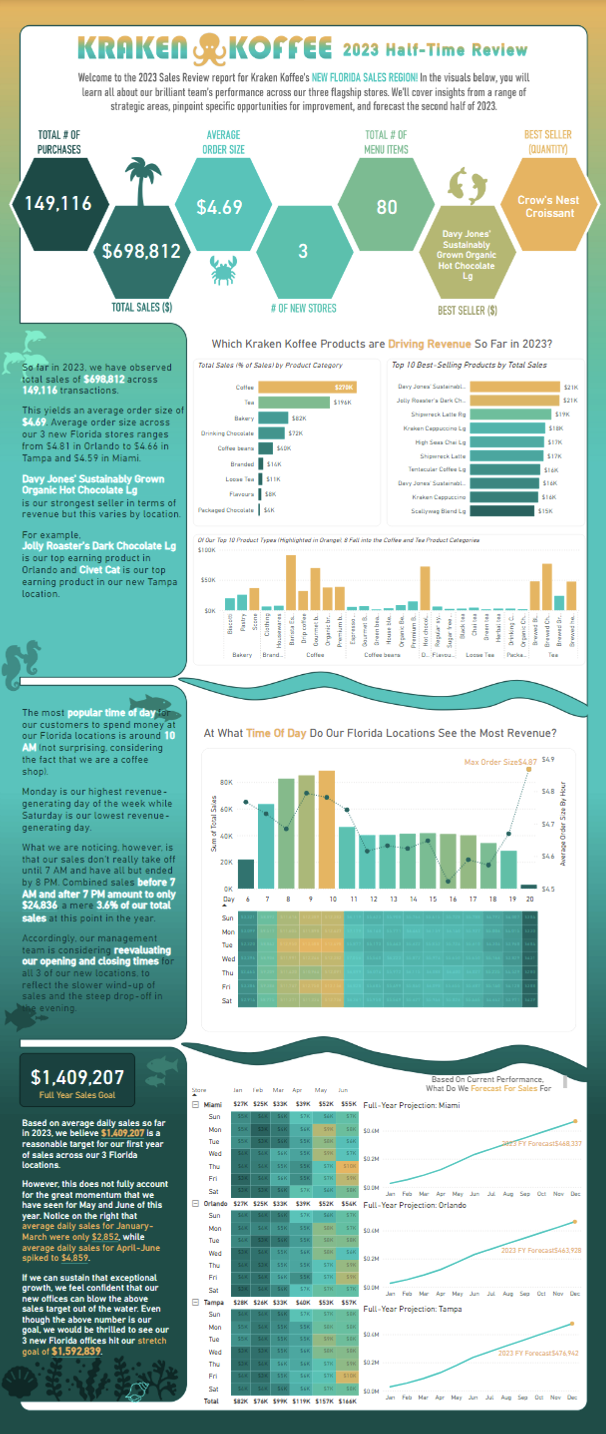

The dashboard page shown, as its layout file describes it:
{"tool":"powerbi","page":{"name":"Kraken Coffee Infographic","canvas":[1280,3020],"ordinal":0},"visuals":[{"type":"card","fields":{"Values":["_01_Core_Measures.Total Transactions"]},"box":[21,330,202,186],"z":0},{"type":"card","fields":{"Values":["_01_Core_Measures.Total Sales"]},"box":[142,434,311,186],"z":1000},{"type":"card","fields":{"Values":["_01_Core_Measures.Average Order Size"]},"box":[363,341,203,186],"z":2000},{"type":"card","fields":{"Values":["_01_Core_Measures.Total Stores"]},"box":[539,434,202,186],"z":3000},{"type":"card","fields":{"Values":["_01_Core_Measures.Total Products"]},"box":[714,341,203,186],"z":4000},{"type":"card","fields":{"Values":["_01_Core_Measures.Top Earner"]},"box":[903,468,165,140],"z":5000},{"type":"card","fields":{"Values":["_01_Core_Measures.Most Popular Seller"]},"box":[1048,318,218,232],"z":6000},{"type":"clusteredBarChart","title":"Total Sales (% of Sales) by Product Category","fields":{"Y":["_01_Core_Measures.Total Sales"],"Category":["Product_Dim.product_category"]},"box":[406,755,395,353],"z":7000},{"type":"clusteredBarChart","title":"Top 10 Best-Selling Products by Total Sales","fields":{"Category":["Product_Dim.product_detail"],"Y":["_01_Core_Measures.Total Sales"]},"box":[814,755,418,353],"z":8000},{"type":"clusteredColumnChart","title":"Of Our Top 10 Product Types (Highlighted in Orange), 8 Fall into the Coffee and Tea Product Categories","fields":{"Category":["Product_Dim.product_category","Product_Dim.product_type"],"Y":["_01_Core_Measures.Total Sales"]},"box":[406,1125,826,276],"z":9000},{"type":"textbox","box":[440,704,751,39],"z":10000},{"type":"textbox","box":[425,1525,790,41],"z":11000},{"type":"shape","box":[425,1575,790,598],"z":12000},{"type":"pivotTable","fields":{"Values":["_01_Core_Measures.Total Sales"],"Rows":["Date.Day Name Short"],"Columns":["Kraken_Koffee_Fact.Hour"]},"box":[456,1874,726,255],"z":13000},{"type":"lineStackedColumnComboChart","fields":{"Category":["Kraken_Koffee_Fact.Hour"],"Y":["Sum(Kraken_Koffee_Fact.Total Sales)"],"Y2":["_01_Core_Measures.Average Order Size","_02_Nested_Measures.Max AOS Marker"]},"box":[438,1584,761,303],"z":14000},{"type":"lineChart","title":"Full-Year Projection: Miami","fields":{"Y":["_04_Forecast.Forecast","_04_Forecast.Forecast Marker"],"Category":["Forecast Date Table.Month Name Short"]},"box":[762,2317,471,210],"z":15000},{"type":"lineChart","title":"Full-Year Projection: Orlando","fields":{"Y":["_04_Forecast.Forecast","_04_Forecast.Forecast Marker"],"Category":["Forecast Date Table.Month Name Short"]},"box":[762,2527,470,210],"z":16000},{"type":"lineChart","title":"Full-Year Projection: Tampa","fields":{"Y":["_04_Forecast.Forecast","_04_Forecast.Forecast Marker"],"Category":["Forecast Date Table.Month Name Short"]},"box":[762,2748,464,210],"z":17000},{"type":"pivotTable","fields":{"Rows":["Store_Dim.store_location","Date.Day Name Short"],"Values":["_01_Core_Measures.Total Sales"],"Columns":["Forecast Date Table.Month Name Short"]},"box":[394,2276,368,695],"z":18000},{"type":"textbox","box":[869,2261,330,49],"z":19000},{"type":"textbox","box":[42,755,352,544],"z":20000},{"type":"textbox","box":[42,1482,338,675],"z":20001},{"type":"card","fields":{"Values":["_04_Forecast.Forecast"]},"box":[42,2219,243,113],"z":20002},{"type":"textbox","box":[42,2347,321,539],"z":20003}]}

Visuals, with their boxes in screenshot pixels (x1, y1, x2, y2), scaled from the page's 1280x3020 canvas onto the 606x1434 screenshot:
card - _01_Core_Measures.Total Transactions: bbox=(10, 157, 106, 245)
card - _01_Core_Measures.Total Sales: bbox=(67, 206, 214, 294)
card - _01_Core_Measures.Average Order Size: bbox=(172, 162, 268, 250)
card - _01_Core_Measures.Total Stores: bbox=(255, 206, 351, 294)
card - _01_Core_Measures.Total Products: bbox=(338, 162, 434, 250)
card - _01_Core_Measures.Top Earner: bbox=(428, 222, 506, 289)
card - _01_Core_Measures.Most Popular Seller: bbox=(496, 151, 599, 261)
"Total Sales (% of Sales) by Product Category" clusteredBarChart: bbox=(192, 358, 379, 526)
"Top 10 Best-Selling Products by Total Sales" clusteredBarChart: bbox=(385, 358, 583, 526)
"Of Our Top 10 Product Types (Highlighted in Orange), 8 Fall into the Coffee and Tea Product Categories" clusteredColumnChart: bbox=(192, 534, 583, 665)
textbox: bbox=(208, 334, 564, 353)
textbox: bbox=(201, 724, 575, 744)
shape: bbox=(201, 748, 575, 1032)
pivotTable - _01_Core_Measures.Total Sales x Date.Day Name Short: bbox=(216, 890, 560, 1011)
lineStackedColumnComboChart - Kraken_Koffee_Fact.Hour x Sum(Kraken_Koffee_Fact.Total Sales): bbox=(207, 752, 568, 896)
"Full-Year Projection: Miami" lineChart: bbox=(361, 1100, 584, 1200)
"Full-Year Projection: Orlando" lineChart: bbox=(361, 1200, 583, 1300)
"Full-Year Projection: Tampa" lineChart: bbox=(361, 1305, 580, 1405)
pivotTable - Store_Dim.store_location x Date.Day Name Short: bbox=(187, 1081, 361, 1411)
textbox: bbox=(411, 1074, 568, 1097)
textbox: bbox=(20, 358, 187, 617)
textbox: bbox=(20, 704, 180, 1024)
card - _04_Forecast.Forecast: bbox=(20, 1054, 135, 1107)
textbox: bbox=(20, 1114, 172, 1370)
